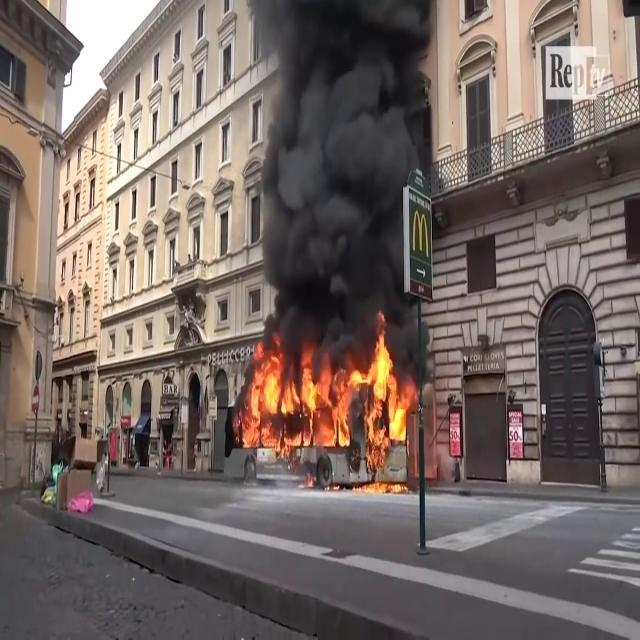Fire: (239, 331, 416, 474)
Smoke: (251, 2, 444, 336)
